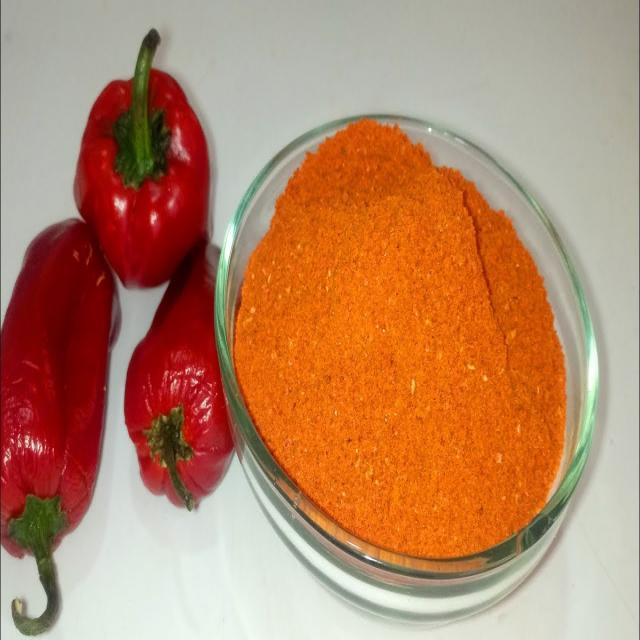Jalepeno: (0, 202, 121, 640), (51, 16, 220, 290), (123, 205, 236, 551)
Paprika: (237, 110, 588, 606)
